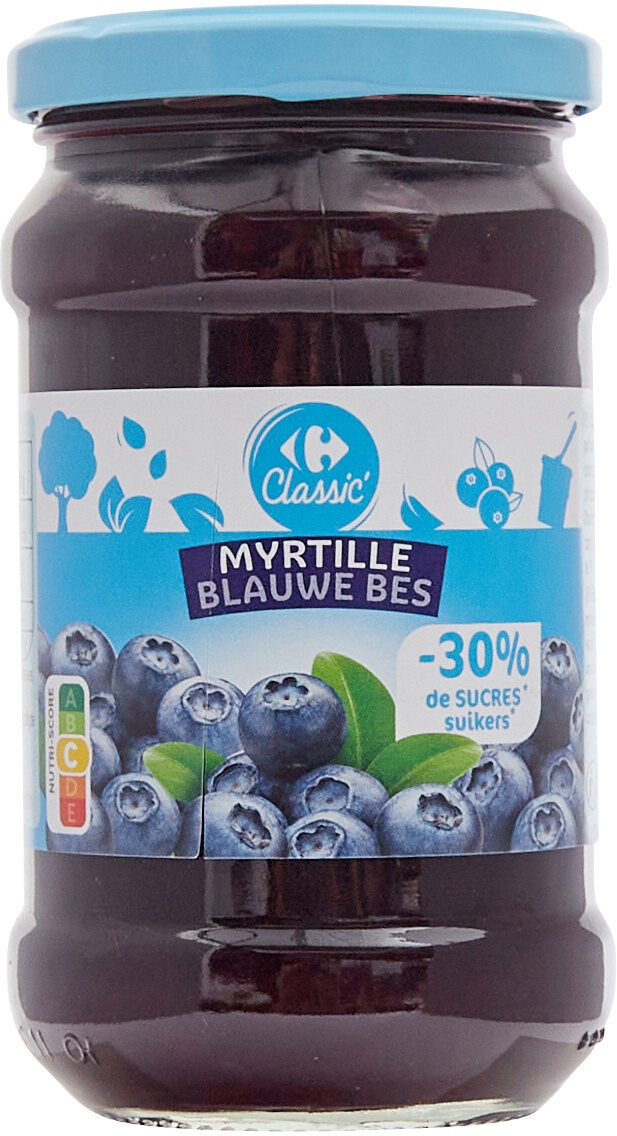Myrtille: (31, 57, 586, 1079)
